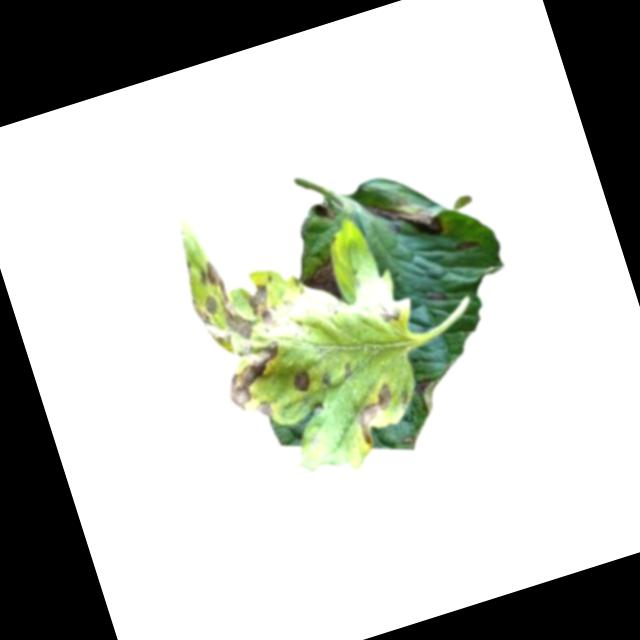Early_blight: (181, 245, 309, 429), (366, 177, 447, 257), (348, 379, 408, 446), (300, 256, 350, 313), (370, 289, 406, 326), (290, 368, 315, 395)
